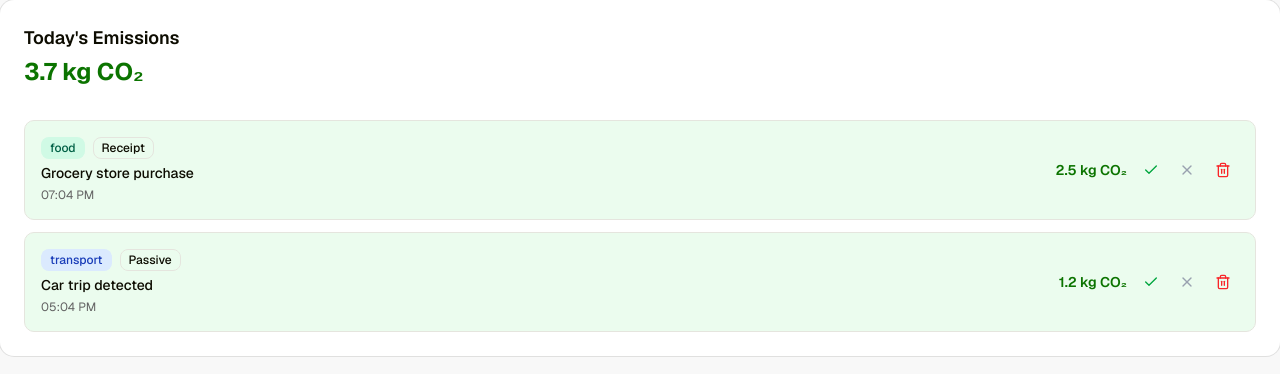
Test case: TodayFootprint Component › shows empty state message when all footprints are deleted
What coordinates should you click on to do the following:
click the button named "delete"
I would click on:
 (1223, 170)
Its box is left=1207, top=154, right=1239, bottom=186.
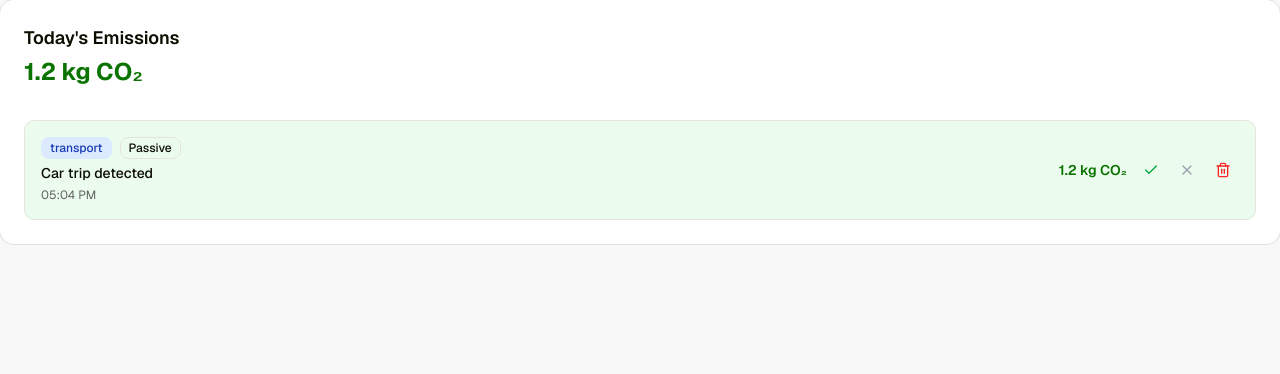
What coordinates should you click on to do the following:
click the button named "delete"
I would click on:
 (1223, 170)
Its box is left=1207, top=154, right=1239, bottom=186.
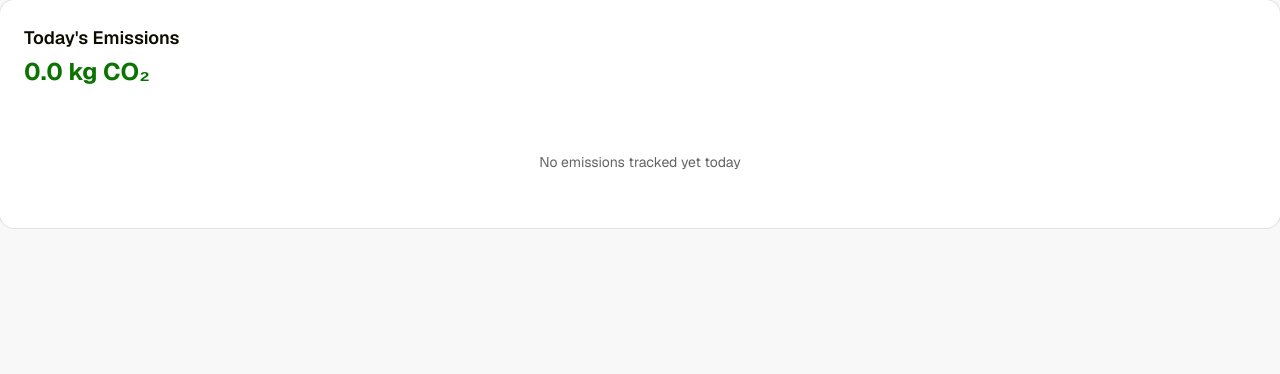
Expected: the text "No emissions tracked yet today" is shown, left=539, top=153, right=741, bottom=171
